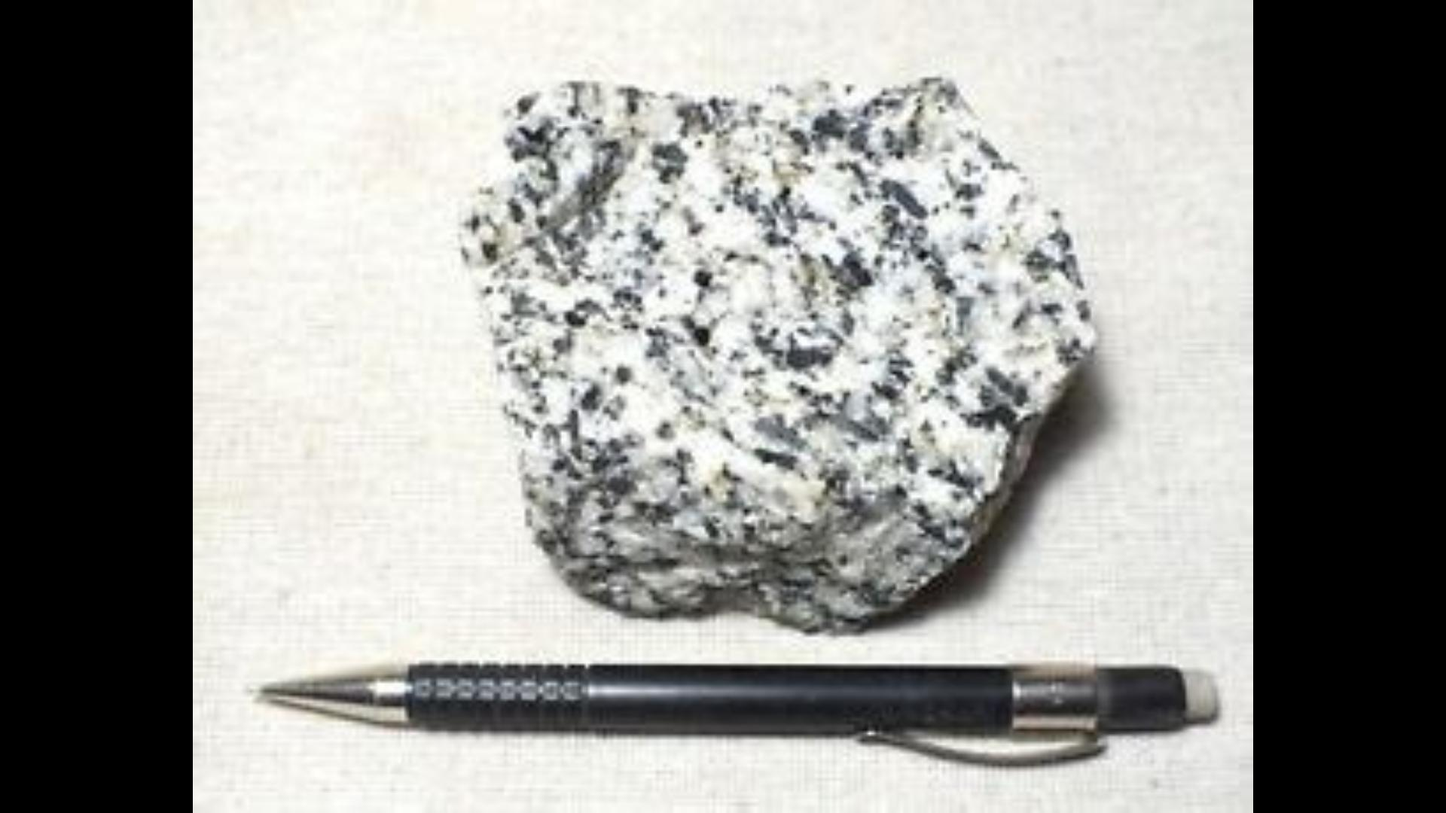rock: (462, 81, 1091, 626)
